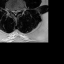CCS_normal: (14, 7, 16, 17)
LFS_normal: (18, 7, 21, 13)
LLS_normal: (16, 7, 18, 15)
RFS_stenosis: (10, 7, 12, 14)
RLS_normal: (12, 8, 14, 15)
